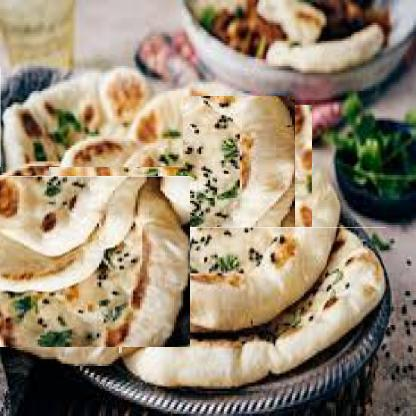naan: (55, 89, 289, 322), (106, 119, 326, 340), (122, 227, 386, 386), (0, 166, 180, 357), (0, 67, 183, 167)
